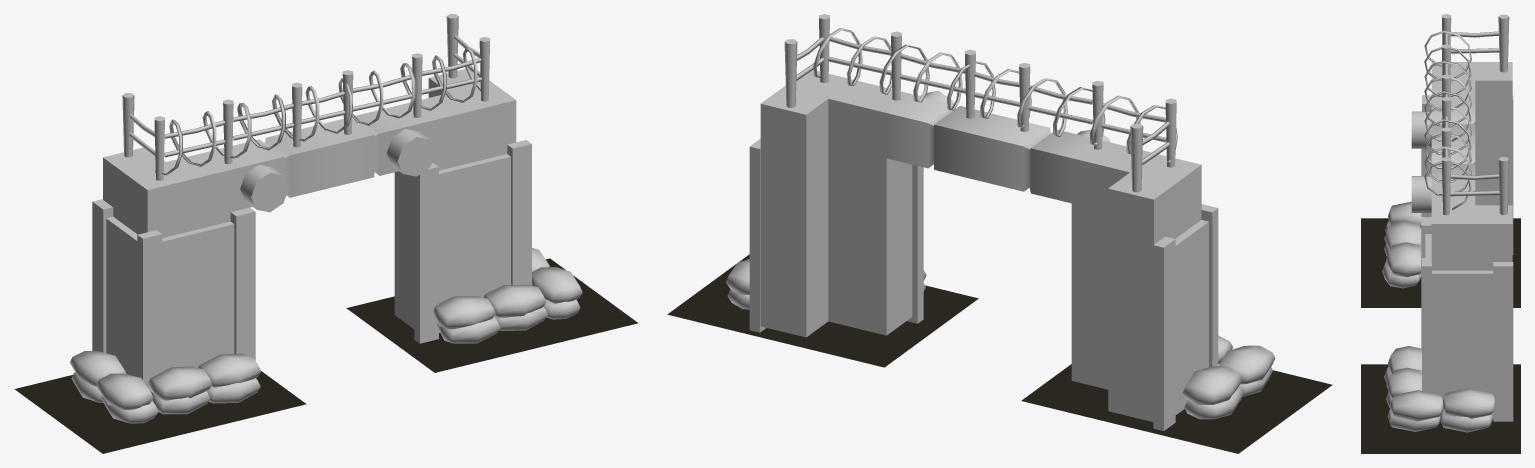
File: Wall_02.FBX
The picture shows the model from 3 angles, left to right: view 1: azimuth 30°, elevation 25°; view 2: azimuth 150°, elevation 25°; view 3: azimuth 270°, elevation 25°; orthographic projection. The views are drawn at different scales.
Parts seen in each view (by area): view 1: Box029, Plane052; view 2: Box029, Plane052; view 3: Box029, Plane052.
Part boxes in pixels (left/top/right/bottom): Box029: left=70, top=14, right=582, bottom=423; Plane052: left=14, top=258, right=638, bottom=453; Box029: left=726, top=14, right=1275, bottom=431; Plane052: left=667, top=254, right=1332, bottom=453; Box029: left=1382, top=14, right=1513, bottom=432; Plane052: left=1361, top=218, right=1520, bottom=453.
Bounding box in the file's own units: 1013 × 497 × 290.
